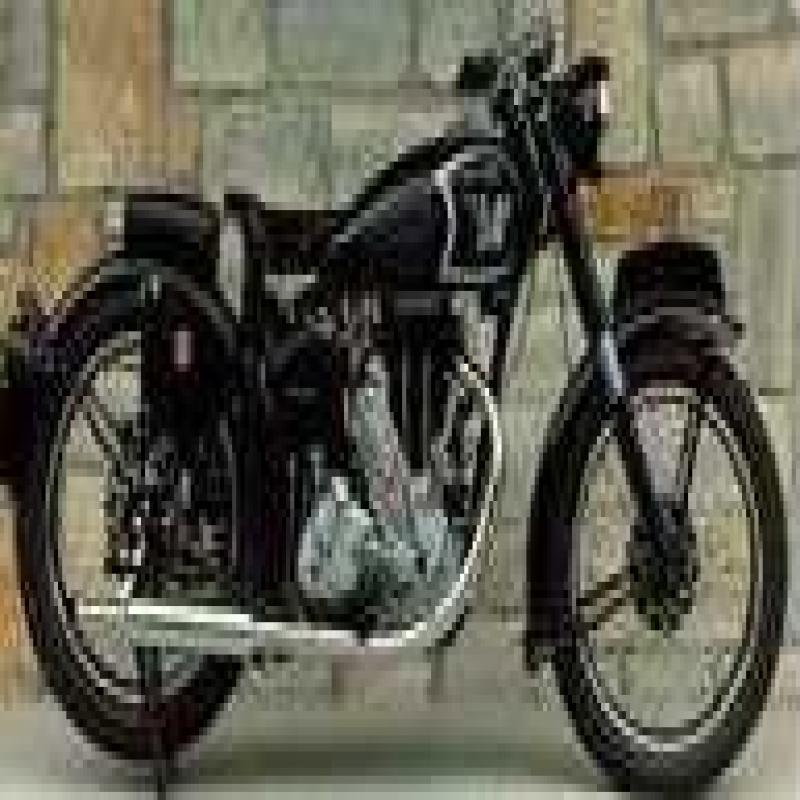bike: (12, 0, 758, 800)
